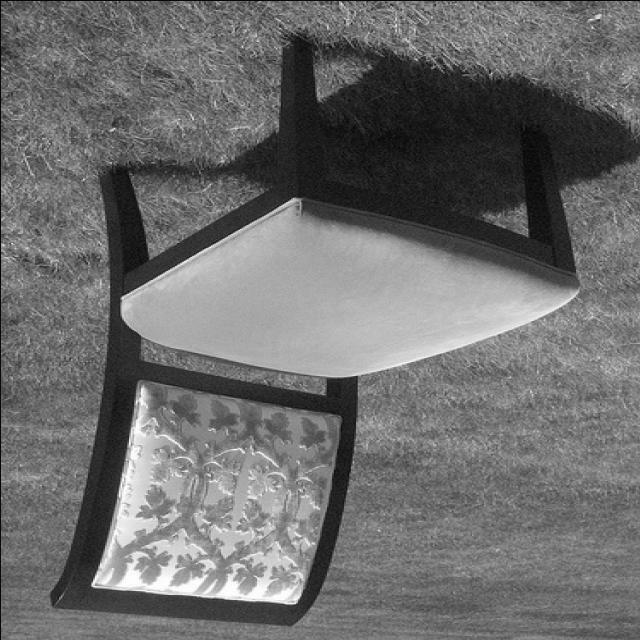chair: (47, 37, 580, 629)
